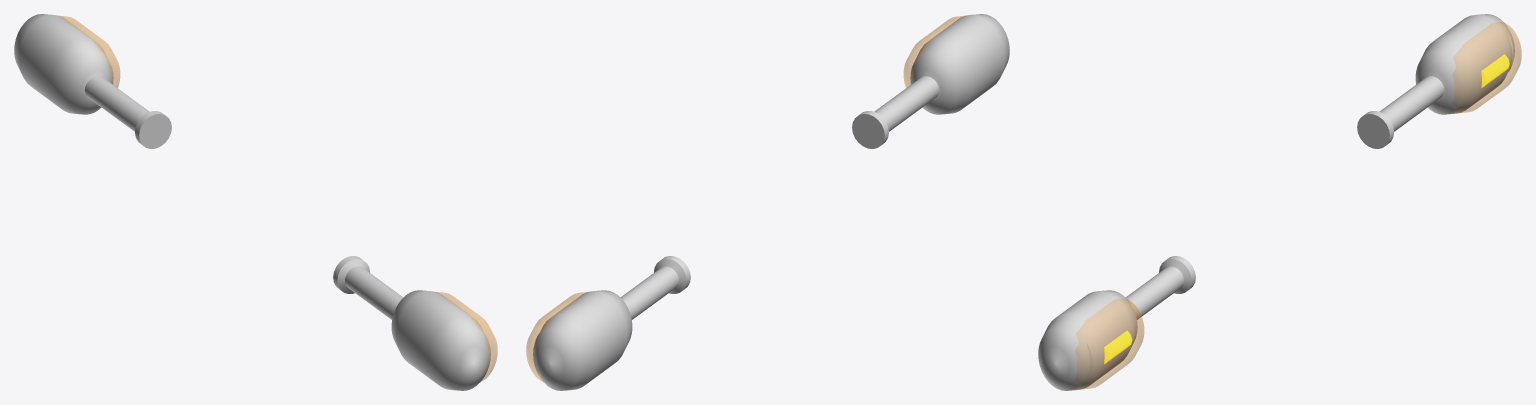
The model's file is chrome_long.glb.
The picture shows the model from 3 angles, left to right: view 1: azimuth 30°, elevation 25°; view 2: azimuth 150°, elevation 25°; view 3: azimuth 330°, elevation 25°; orthographic projection.
Visible parts, largest first — view 1: indicators_front_chrome_long; view 2: indicators_front_chrome_long; view 3: indicators_front_chrome_long.
Part boxes in pixels (x1,y1,x2,y2): indicators_front_chrome_long: (14, 14, 497, 390); indicators_front_chrome_long: (526, 14, 1009, 390); indicators_front_chrome_long: (1038, 14, 1521, 390).
Size of the model in its own units: 0.0356 by 0.039 by 0.42.
